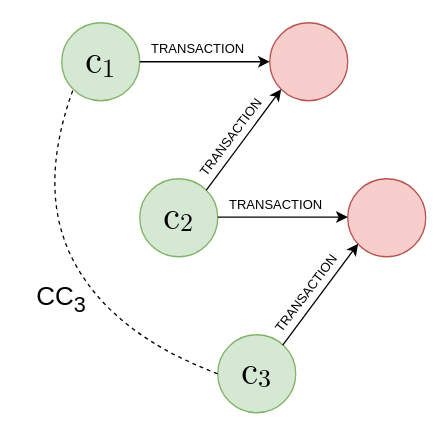
Some shapes in this 448 by 435 pixel diagram are drawn without their labels. The shapes that lost their labels are listed below. From the top down, each one's box as (x1, y1, x2, y2) in pixels, then its label:
(268, 21, 348, 101): t 1
(346, 177, 426, 257): t 2
